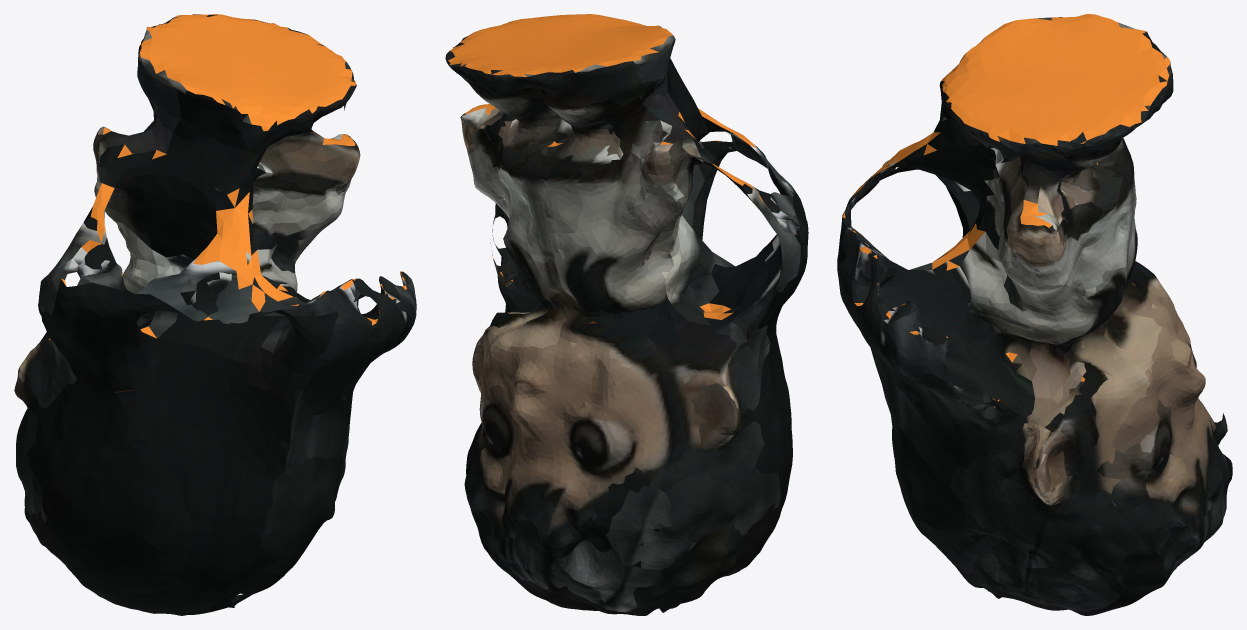
The model's file is hlw.glb.
3 renders of one model, left to right at view 1: azimuth 30°, elevation 25°; view 2: azimuth 150°, elevation 25°; view 3: azimuth 270°, elevation 25°, orthographic. The views are drawn at different scales.
Parts seen in each view (by area): view 1: object; view 2: object; view 3: object.
Boxes of the visible parts, left/top/right/bottom form: object: left=14, top=14, right=416, bottom=615; object: left=445, top=14, right=808, bottom=615; object: left=837, top=14, right=1232, bottom=615.
Size of the model in its own units: 1.19 by 1.87 by 1.18.
1 material, 1 textured.
